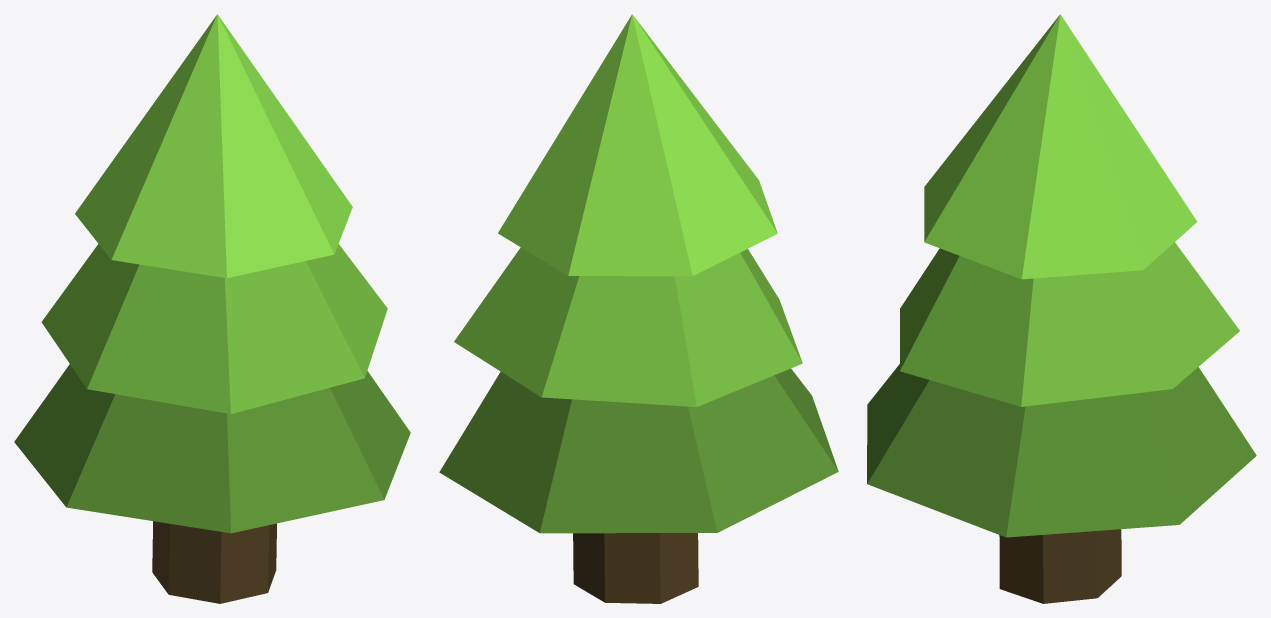
Rendered from arbol.fbx.
3 renders of one model, left to right at view 1: azimuth 30°, elevation 25°; view 2: azimuth 150°, elevation 25°; view 3: azimuth 270°, elevation 25°, orthographic.
Parts seen in each view (by area): view 1: Cone, Cone.002, Cone.001, Cylinder; view 2: Cone, Cone.002, Cone.001, Cylinder; view 3: Cone, Cone.002, Cone.001, Cylinder.
Part boxes in pixels (<box>): Cone: <box>14,364,410,533</box>; Cone.002: <box>75,14,352,278</box>; Cone.001: <box>41,244,387,414</box>; Cylinder: <box>152,521,276,603</box>; Cone: <box>439,368,838,533</box>; Cone.002: <box>498,14,777,276</box>; Cone.001: <box>454,247,802,406</box>; Cylinder: <box>573,533,698,603</box>; Cone: <box>867,364,1256,537</box>; Cone.002: <box>924,14,1197,279</box>; Cone.001: <box>900,242,1239,406</box>; Cylinder: <box>999,529,1121,603</box>.
Bounding box in the file's own units: 229 × 357 × 223.
